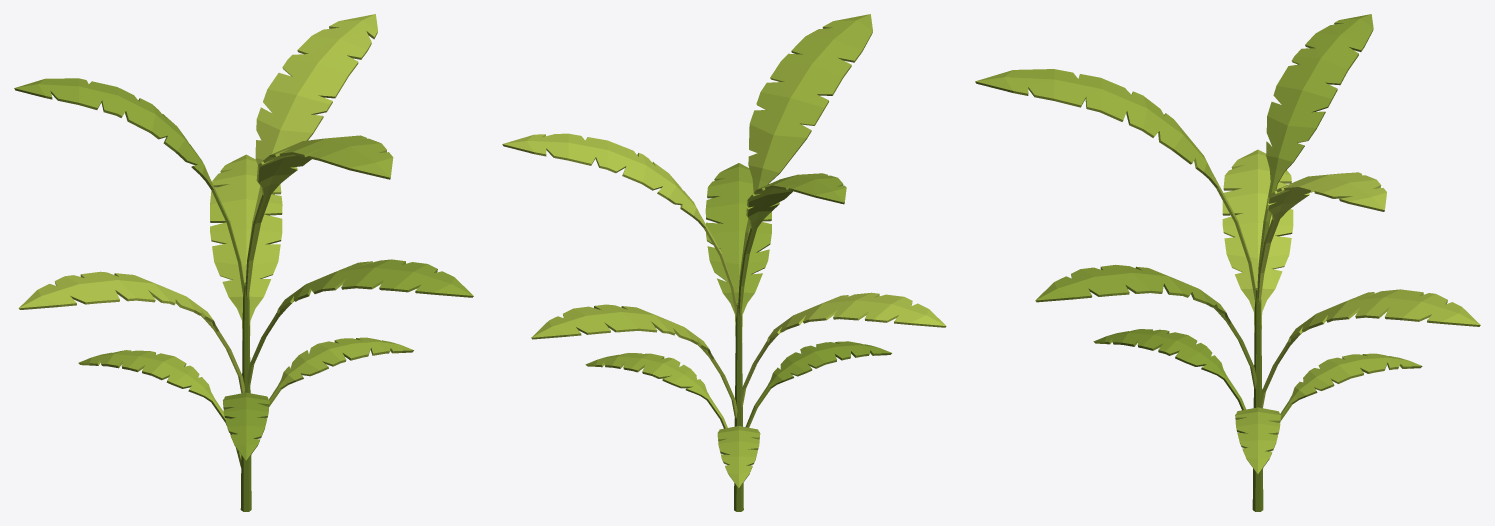
The model's file is NHP_Tree_LP_H1_1.8m_01.fbx.
3 renders of one model, left to right at view 1: azimuth 30°, elevation 25°; view 2: azimuth 150°, elevation 25°; view 3: azimuth 270°, elevation 25°, orthographic. The views are drawn at different scales.
Visible parts, largest first — view 1: NHP_Tree_LP_H1_1.8m_01_LOD0; view 2: NHP_Tree_LP_H1_1.8m_01_LOD0; view 3: NHP_Tree_LP_H1_1.8m_01_LOD0.
Part boxes in pixels (bbox=[...]): NHP_Tree_LP_H1_1.8m_01_LOD0: bbox=[14, 14, 473, 511]; NHP_Tree_LP_H1_1.8m_01_LOD0: bbox=[502, 14, 946, 511]; NHP_Tree_LP_H1_1.8m_01_LOD0: bbox=[975, 14, 1480, 511].
Size of what is drawn, in the model's own units: 1.79 by 1.8 by 1.9.
